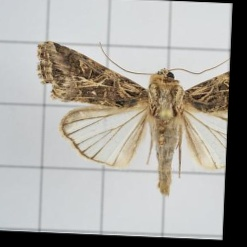Spodoptera litura: (32, 42, 227, 195)
